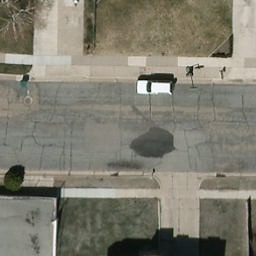car: (135, 76, 174, 98)
